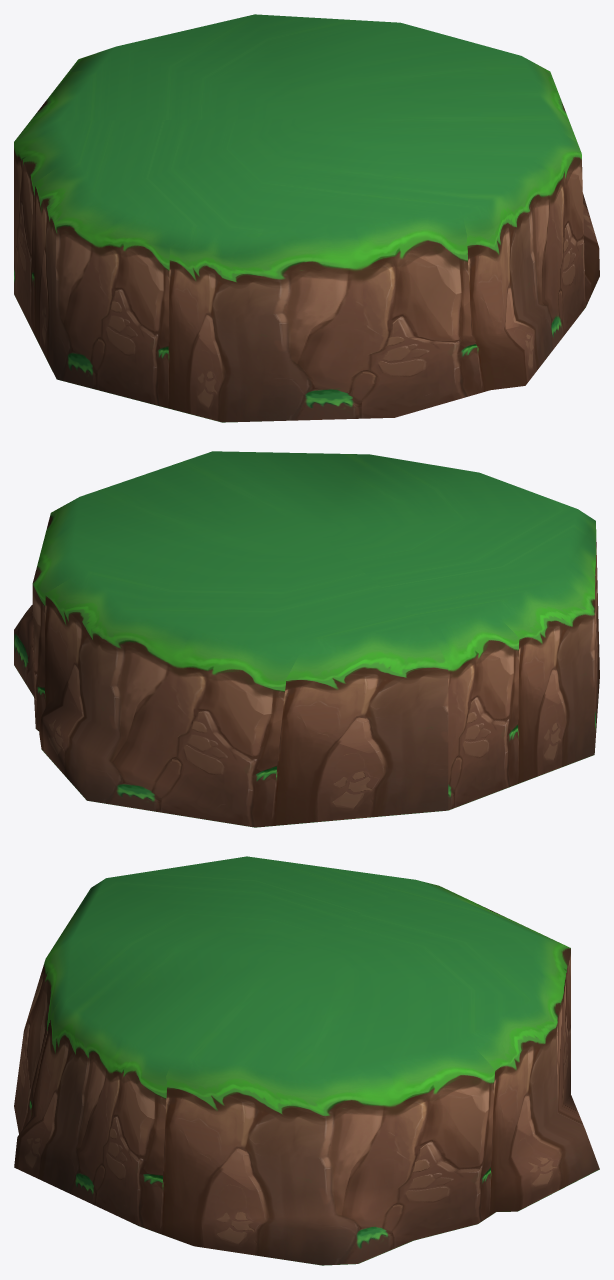
File: rc_01_budA_15_02.FBX
3 views of the same model, one above another, from view 1: azimuth 30°, elevation 25°; view 2: azimuth 150°, elevation 25°; view 3: azimuth 270°, elevation 25° (orthographic). The views are drawn at different scales.
Visible parts, largest first — view 1: Box054; view 2: Box054; view 3: Box054.
Boxes of the visible parts, <box> form: Box054: <box>14,14,599,422</box>; Box054: <box>14,451,599,827</box>; Box054: <box>14,856,599,1265</box>.
Size of the model in its own units: 3578 by 3389 by 1106.
